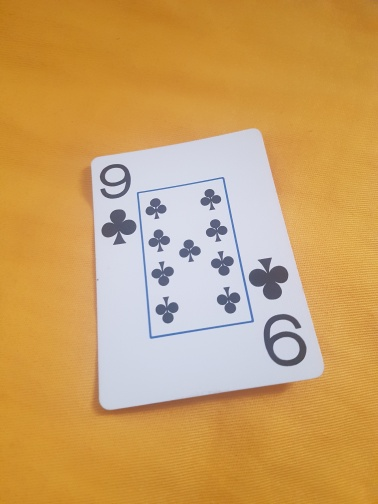nine: (90, 127, 327, 412)
